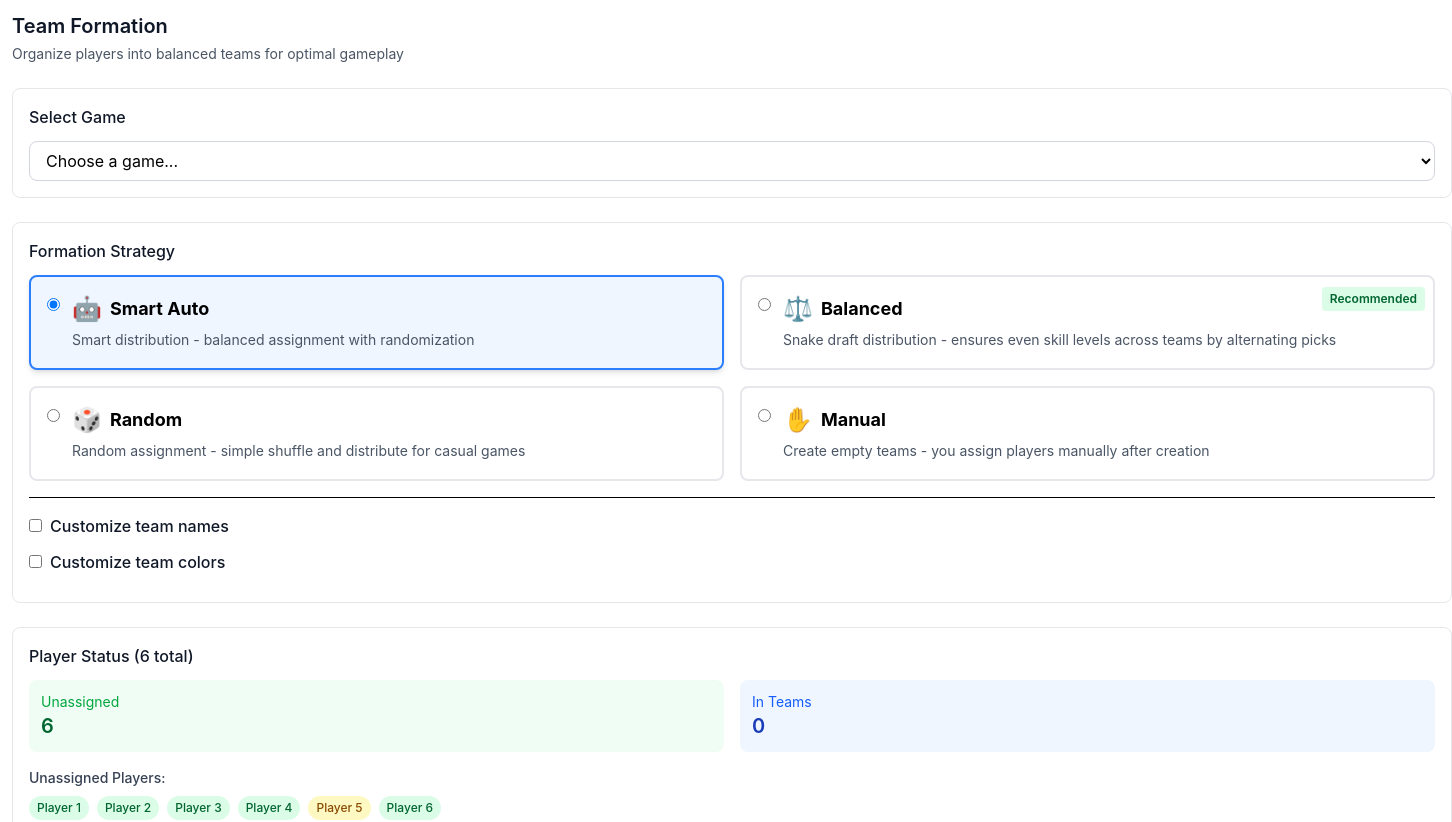
Test: TeamFormationInterface › Strategy Selection › should show manual team count input only for MANUAL strategy
Expected: the text "Number of Teams" is not shown
Click the 4th radio button at (764,415), box [758,409,771,422]
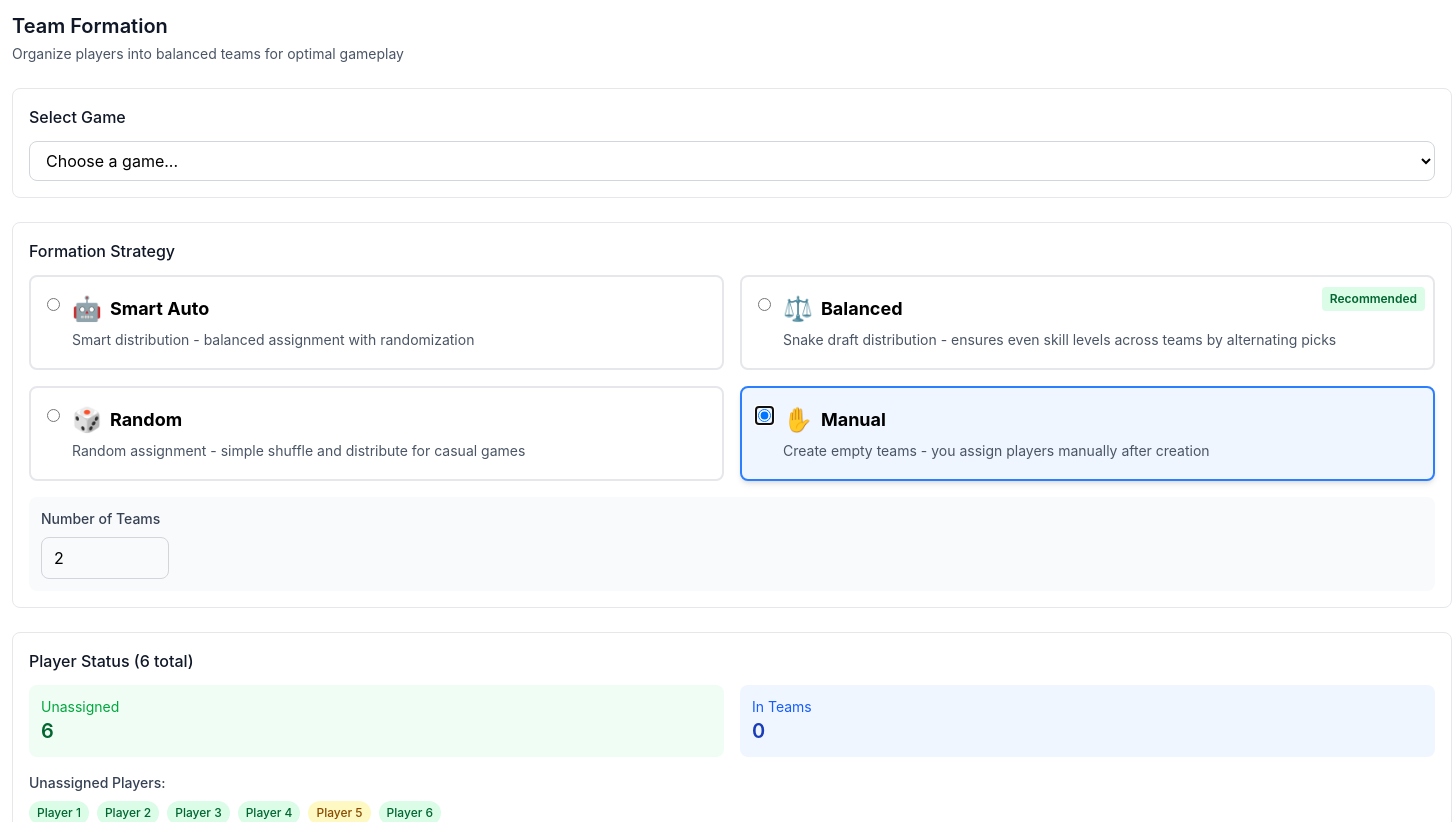
Expected: the text "Number of Teams" is shown, [41,510,160,526]
